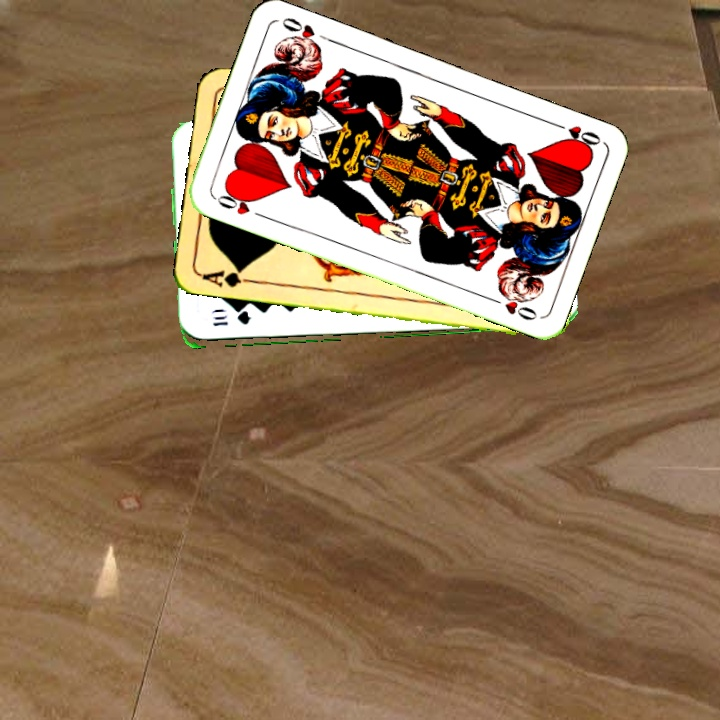G10: (209, 310, 253, 329)
GA: (198, 263, 257, 290)
HO: (210, 186, 267, 221), (547, 118, 604, 151)
